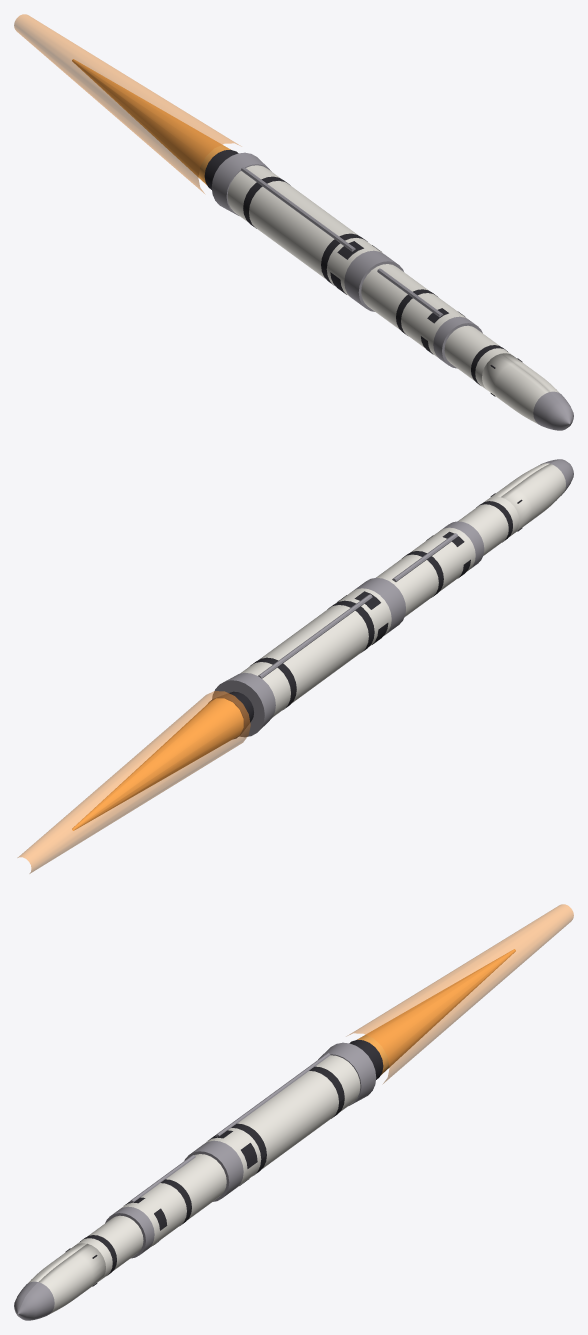
File: earth_icbm.glb
3 renders of one model, top to bottom at view 1: azimuth 30°, elevation 25°; view 2: azimuth 150°, elevation 25°; view 3: azimuth 330°, elevation 25°, orthographic.
Parts seen in each view (by area): view 1: stage_1_body, exhaust_0_haze, stage_2_body, exhaust_0, shroud_R, stage_3_body, stage_1_fine, shroud_R_fine, stage_2_fine; view 2: exhaust_0_haze, stage_1_body, exhaust_0, stage_2_body, shroud_R, stage_3_body, stage_1_fine, stage_2_fine; view 3: stage_1_body, exhaust_0_haze, stage_2_body, exhaust_0, shroud_L, stage_3_body, stage_1_fine, shroud_L_fine, stage_2_fine.
Part boxes in pixels (x1,y1,x2,y2): stage_1_body: (204,149,403,311); exhaust_0_haze: (14,14,241,193); stage_2_body: (361,264,482,368); exhaust_0: (72,59,230,185); shroud_R: (482,353,548,423); stage_3_body: (444,325,512,389); stage_1_fine: (243,176,381,294); shroud_R_fine: (533,392,569,430); stage_2_fine: (396,289,464,354); exhaust_0_haze: (17,691,250,873); stage_1_body: (208,577,405,739); exhaust_0: (72,698,243,830); stage_2_body: (376,521,484,616); shroud_R: (501,464,565,532); stage_3_body: (458,496,519,555); stage_1_fine: (250,591,388,709); stage_2_fine: (402,531,470,597); stage_1_body: (184,1039,383,1201); exhaust_0_haze: (346,904,573,1083); stage_2_body: (105,1154,226,1258); exhaust_0: (357,949,515,1075); shroud_L: (39,1243,105,1313); stage_3_body: (75,1215,143,1279); stage_1_fine: (208,1066,344,1185); shroud_L_fine: (18,1282,54,1320); stage_2_fine: (124,1179,191,1245).
Bounding box in the file's own units: 2.13 × 2.13 × 37.96.
